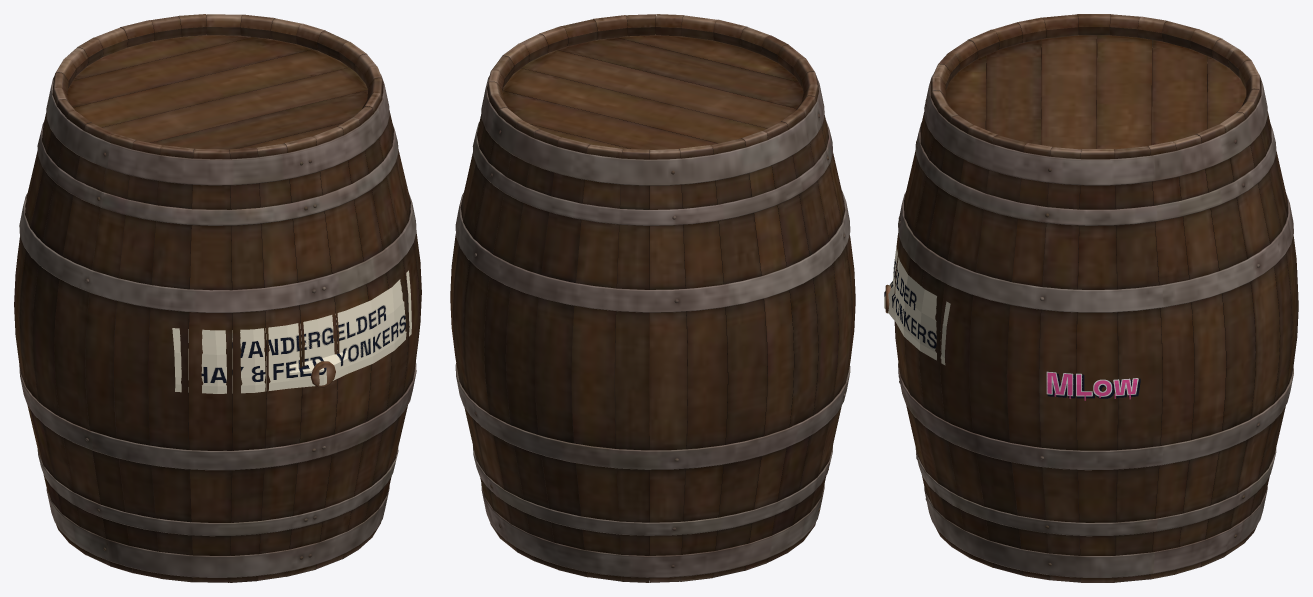
File: nyb_dolly_barrel.glb
3 renders of one model, left to right at view 1: azimuth 30°, elevation 25°; view 2: azimuth 150°, elevation 25°; view 3: azimuth 270°, elevation 25°, orthographic.
Parts seen in each view (by area): view 1: wine_barrel_01_Lid, stk_lbl_875a6ca01c.png; view 2: wine_barrel_01_Lid; view 3: wine_barrel_01_Lid, stk_lbl_875a6ca01c.png, stk_tag_mlow.png.
Part boxes in pixels (box(x1,y1,x2,y2)): wine_barrel_01_Lid: box(14, 14, 421, 582); stk_lbl_875a6ca01c.png: box(172, 270, 411, 393); wine_barrel_01_Lid: box(450, 14, 855, 582); wine_barrel_01_Lid: box(885, 14, 1298, 582); stk_lbl_875a6ca01c.png: box(884, 244, 950, 365); stk_tag_mlow.png: box(1046, 371, 1140, 400).
Size of the model in its own units: 0.7439 by 0.8713 by 0.7584.
3 materials, 3 textured.
